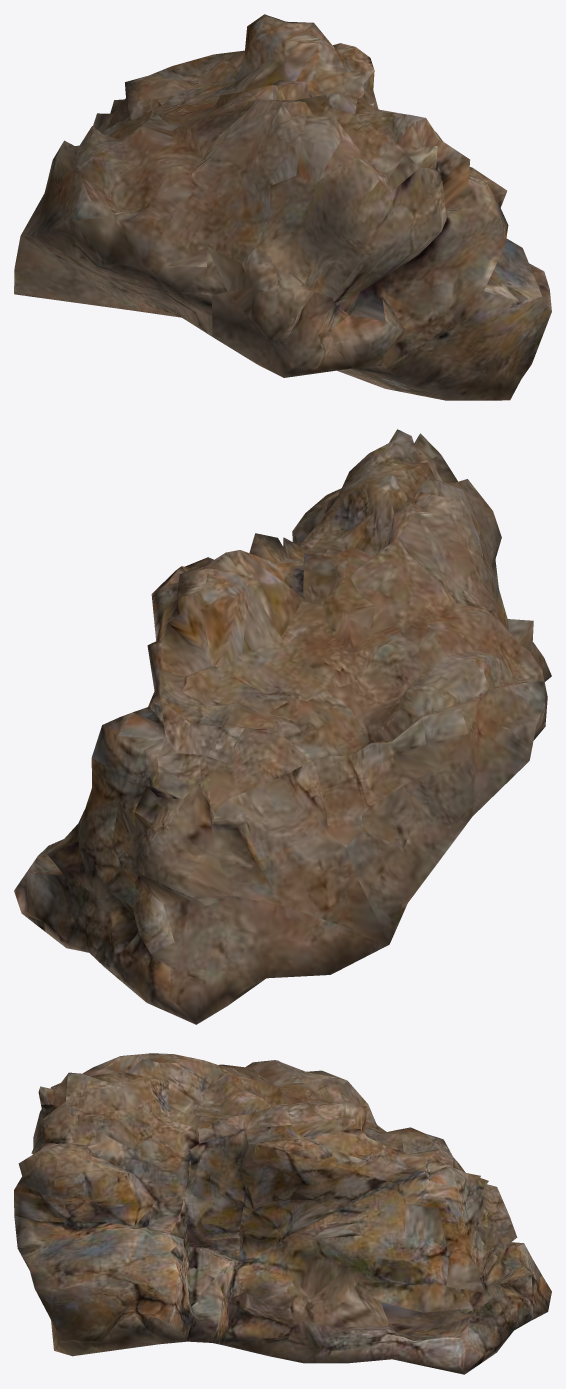
Rendered from ph_boulder.glb.
3 views of the same model, one above another, from view 1: azimuth 30°, elevation 25°; view 2: azimuth 150°, elevation 25°; view 3: azimuth 270°, elevation 25° (orthographic). The views are drawn at different scales.
Visible parts, largest first — view 1: boulder_01_LOD3; view 2: boulder_01_LOD3; view 3: boulder_01_LOD3.
Boxes of the visible parts, box(x1,y1,x2,y2) form: boulder_01_LOD3: box(14, 14, 551, 400); boulder_01_LOD3: box(14, 429, 551, 1024); boulder_01_LOD3: box(14, 1053, 551, 1374).
Size of the model in its own units: 1.28 by 0.999 by 1.8.
Materials: 1 (1 with a texture image).
